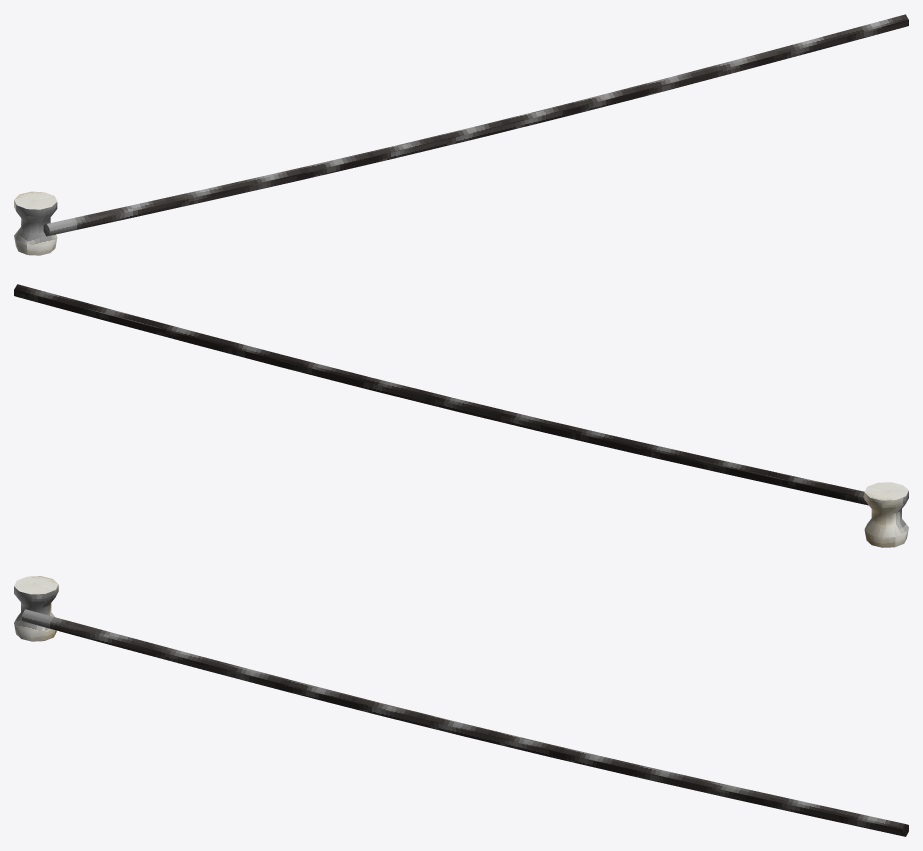
Rendered from gk_knob.glb.
3 views of the same model, one above another, from view 1: azimuth 30°, elevation 25°; view 2: azimuth 150°, elevation 25°; view 3: azimuth 330°, elevation 25° (orthographic). The views are drawn at different scales.
Parts seen in each view (by area): view 1: mesh; view 2: mesh; view 3: mesh.
Part boxes in pixels (box(x1,y1,x2,y2)): mesh: box(14, 14, 908, 255); mesh: box(14, 284, 908, 547); mesh: box(14, 576, 908, 836).
Size of the model in its own units: 0.5111 by 0.028 by 0.0245.
1 material, 1 textured.
